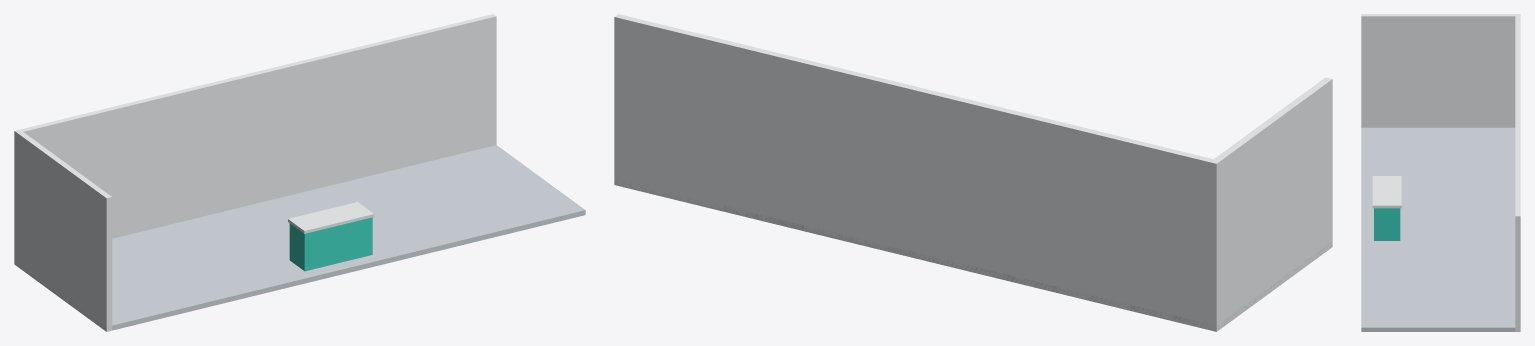
The picture shows the model from 3 angles, left to right: view 1: azimuth 30°, elevation 25°; view 2: azimuth 150°, elevation 25°; view 3: azimuth 270°, elevation 25°; orthographic projection. The views are drawn at different scales.
Visible parts, largest first — view 1: Exhibition Booth Concept; view 2: Exhibition Booth Concept; view 3: Exhibition Booth Concept.
Boxes of the visible parts, left/top/right/bottom form: Exhibition Booth Concept: left=14, top=14, right=585, bottom=331; Exhibition Booth Concept: left=614, top=14, right=1332, bottom=331; Exhibition Booth Concept: left=1361, top=14, right=1520, bottom=331.
Bounding box in the file's own units: 12 × 3.2 × 4.
